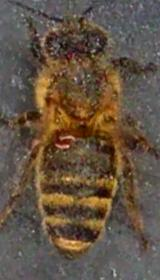varroa_mite: (50, 126, 80, 154)
